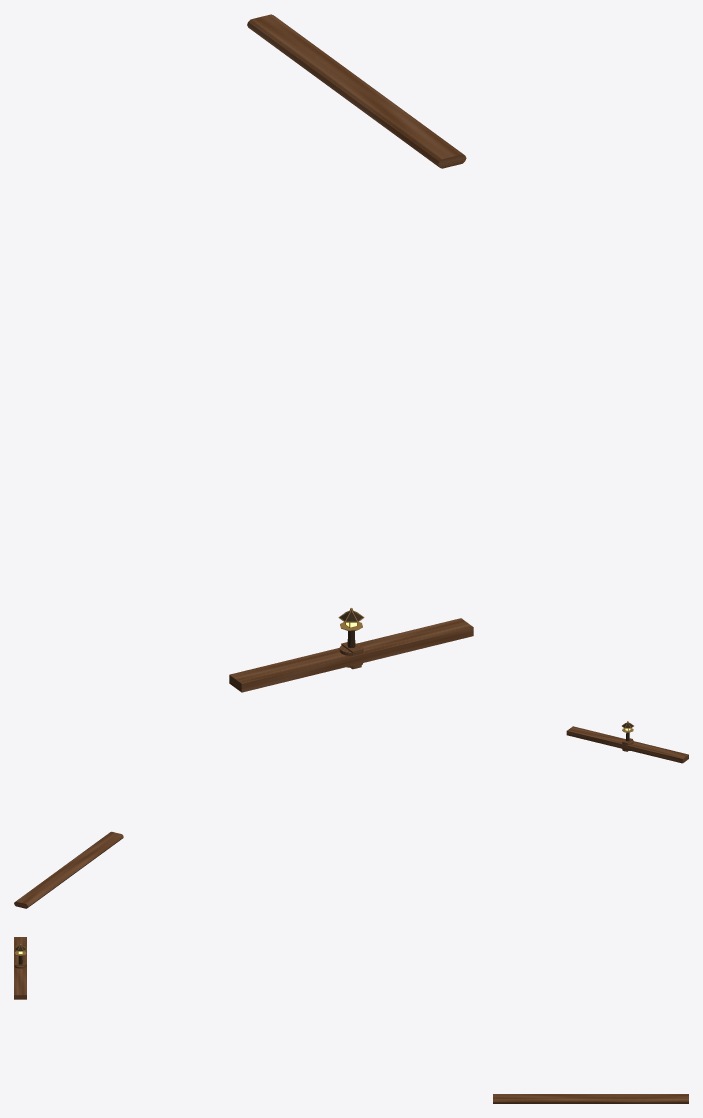
Rendered from zen_lantern.glb.
The picture shows the model from 3 angles, top to bottom: view 1: azimuth 30°, elevation 25°; view 2: azimuth 150°, elevation 25°; view 3: azimuth 270°, elevation 25°; orthographic projection. The views are drawn at different scales.
Parts seen in each view (by area): view 1: WATERFALL BENCH | 11m flattened log seat, WATERFALL BENCH | foot washing return seat; view 2: WATERFALL BENCH | 11m flattened log seat, WATERFALL BENCH | foot washing return seat; view 3: WATERFALL BENCH | 11m flattened log seat, WATERFALL BENCH | foot washing return seat.
Boxes of the visible parts, box(x1,y1,x2,y2) form: WATERFALL BENCH | 11m flattened log seat: box(247, 14, 466, 168); WATERFALL BENCH | foot washing return seat: box(229, 618, 473, 692); WATERFALL BENCH | 11m flattened log seat: box(14, 831, 123, 908); WATERFALL BENCH | foot washing return seat: box(566, 726, 688, 763); WATERFALL BENCH | 11m flattened log seat: box(493, 1094, 688, 1103); WATERFALL BENCH | foot washing return seat: box(14, 937, 26, 999).
Bounding box in the file's own units: 22.97 × 1.79 × 37.87.
4 materials, 1 textured.
